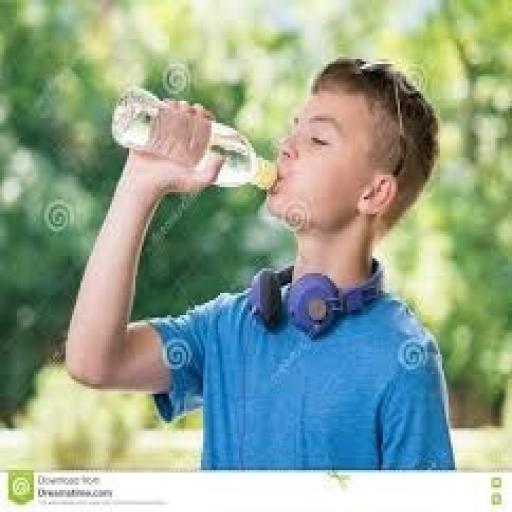drinking: (109, 85, 432, 354)
